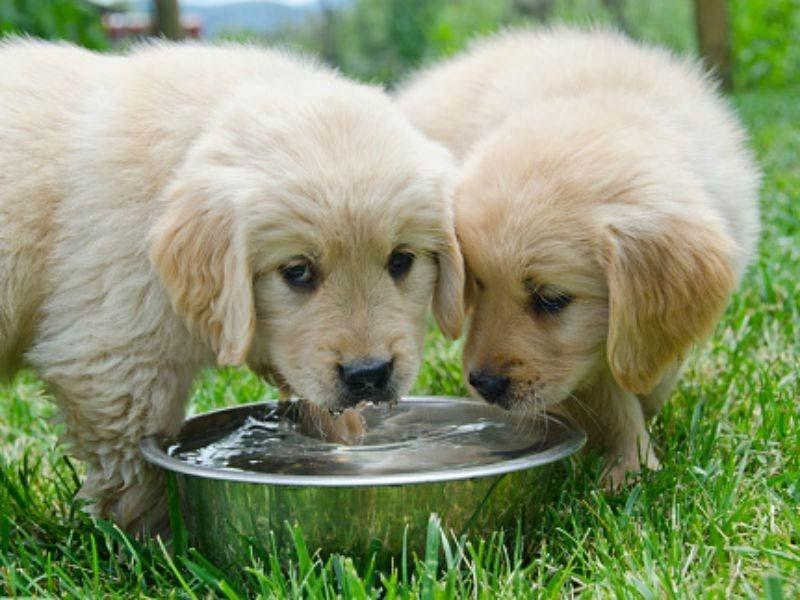puppy-dog: (1, 33, 474, 541), (395, 24, 770, 488)
